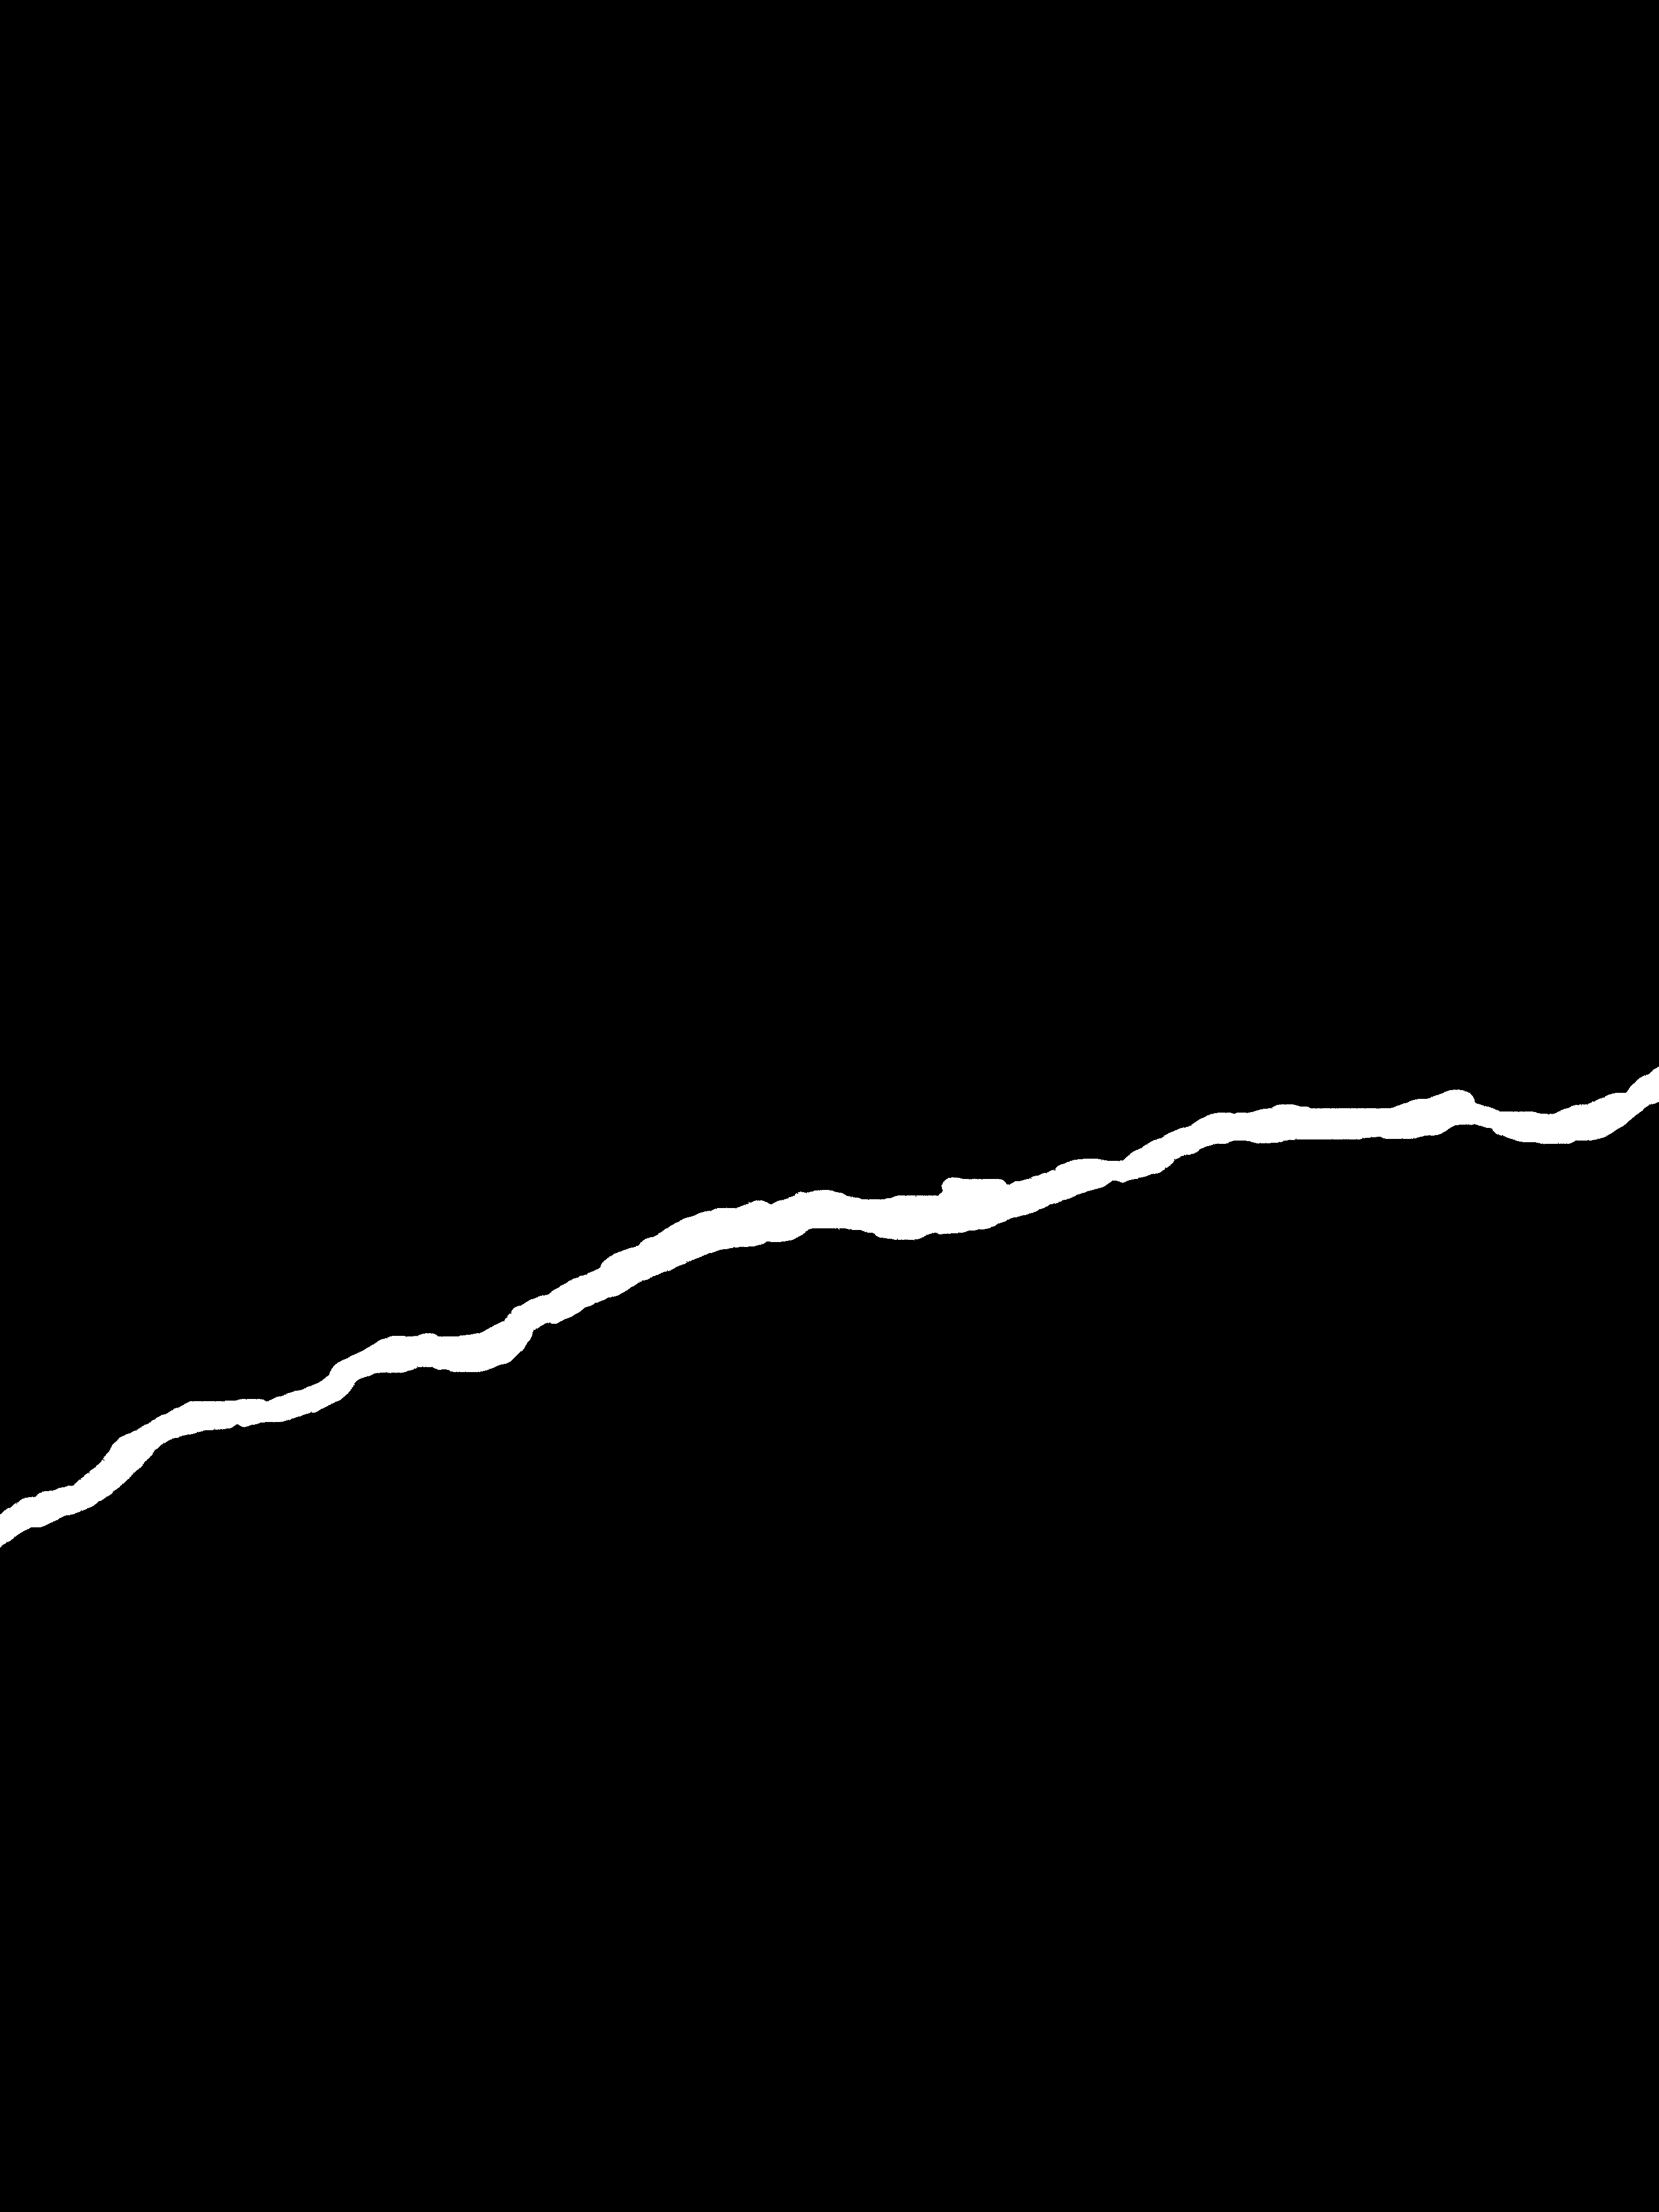Crack: (0, 1038, 1659, 1559)
